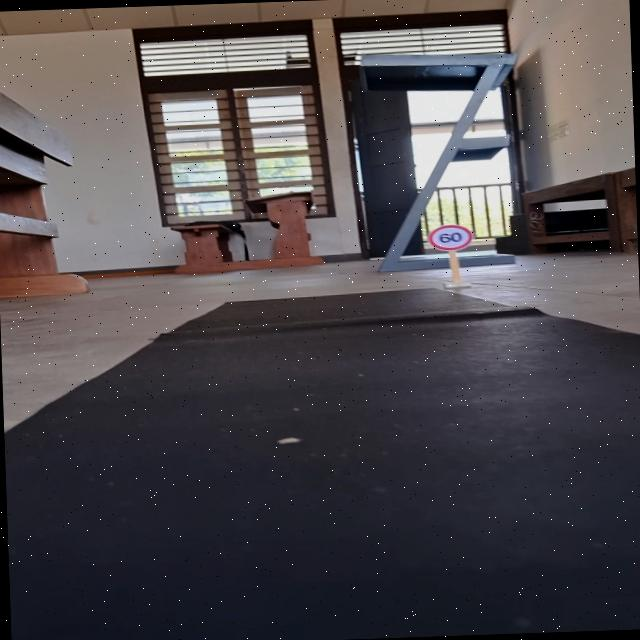Speed60: (425, 223, 474, 253)
